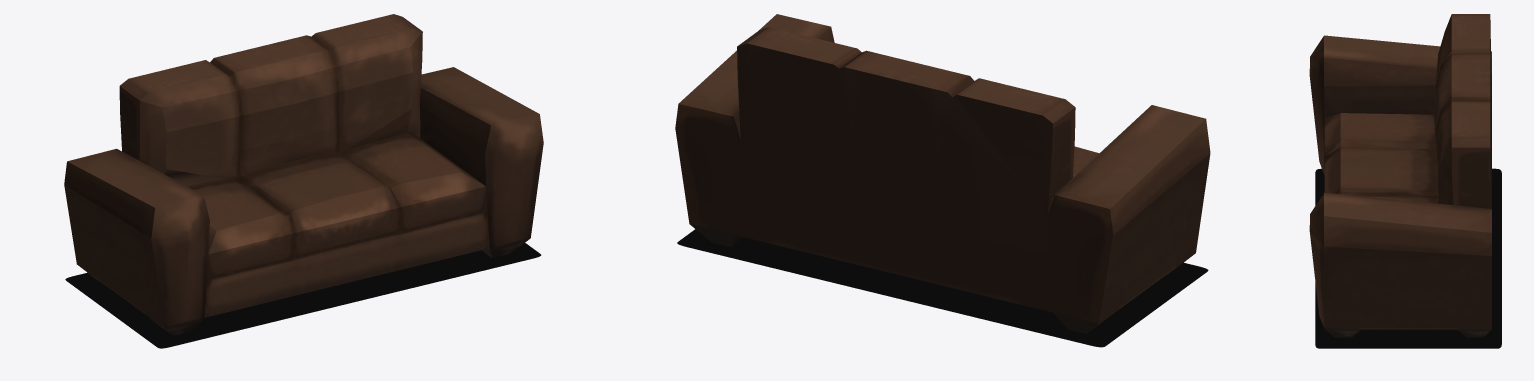
Rendered from couch.fbx.
3 views of the same model, side by side, from view 1: azimuth 30°, elevation 25°; view 2: azimuth 150°, elevation 25°; view 3: azimuth 270°, elevation 25° (orthographic). The views are drawn at different scales.
Visible parts, largest first — view 1: LB_couchA6, shadow; view 2: LB_couchA6, shadow; view 3: LB_couchA6, shadow.
Part boxes in pixels (box(x1,y1,x2,y2)): LB_couchA6: box(64, 14, 543, 335); shadow: box(65, 243, 541, 348); LB_couchA6: box(675, 14, 1210, 333); shadow: box(677, 229, 1208, 347); LB_couchA6: box(1309, 14, 1491, 337); shadow: box(1315, 168, 1501, 348).
Bounding box in the file's own units: 11.04 × 4.35 × 4.84.
2 materials, 2 textured.
